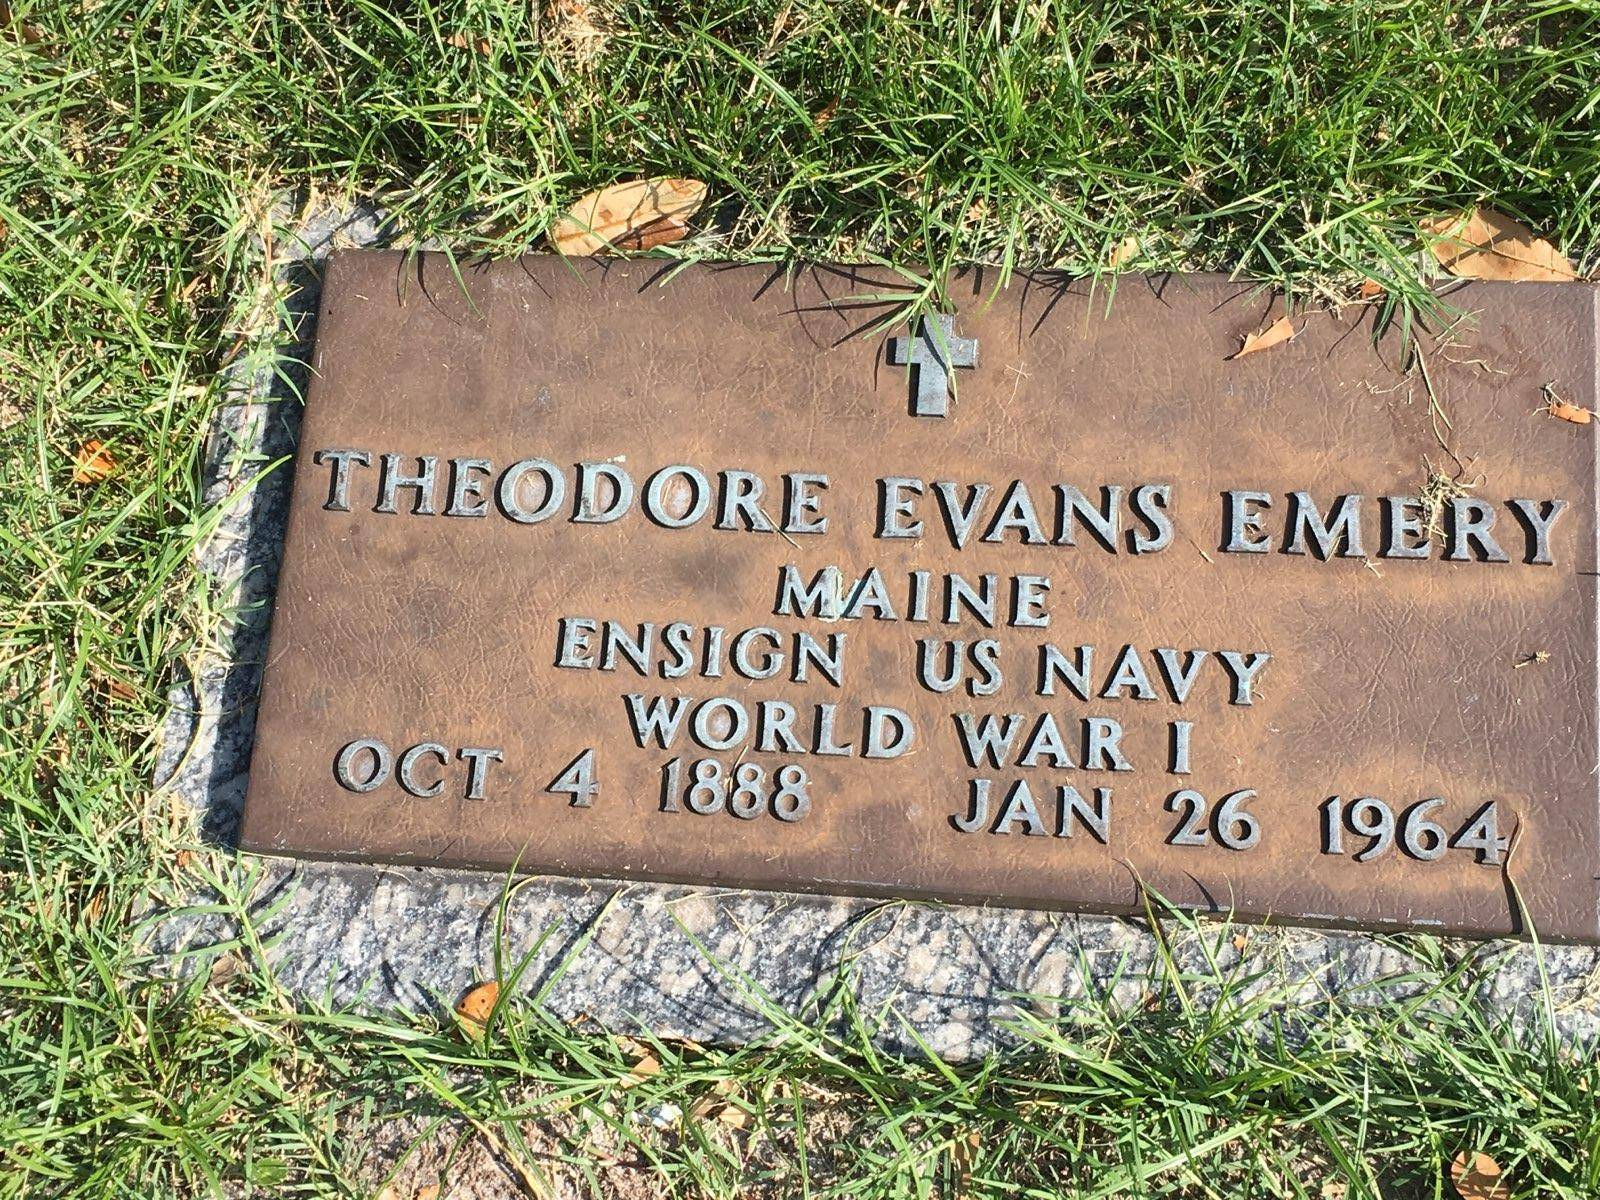flat: (218, 216, 1592, 979)
